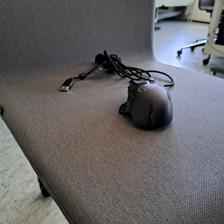mouse: (119, 77, 173, 132)
